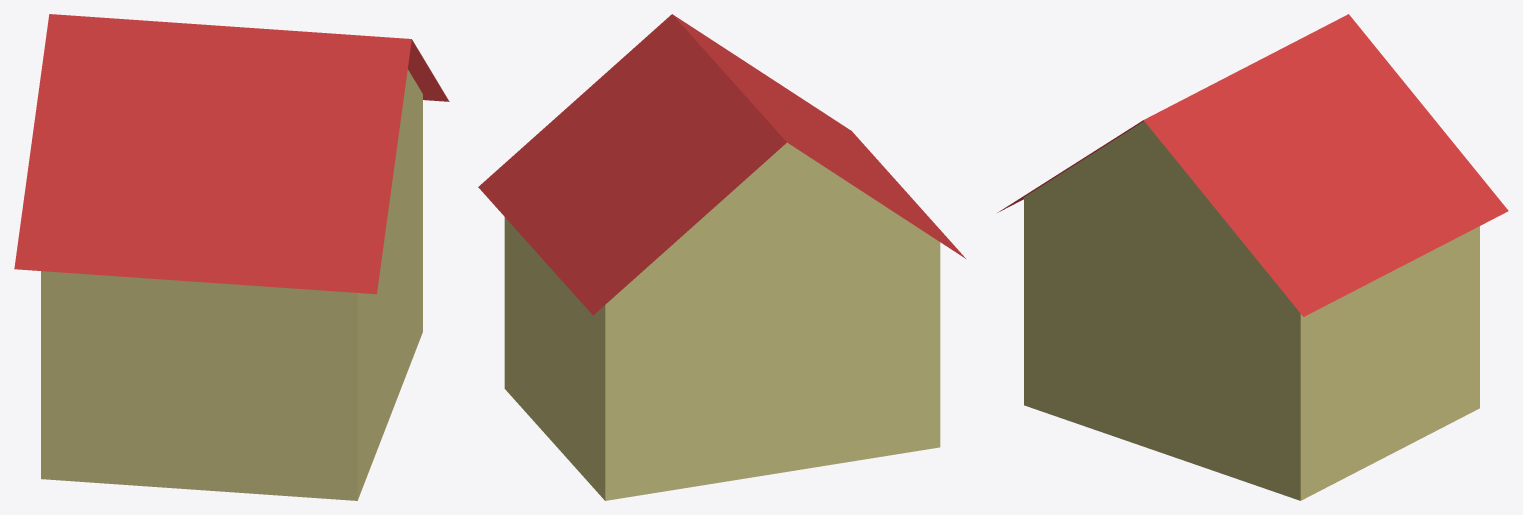
3 views of the same model, side by side, from view 1: azimuth 30°, elevation 25°; view 2: azimuth 150°, elevation 25°; view 3: azimuth 270°, elevation 25° (orthographic). The views are drawn at different scales.
Visible parts, largest first — view 1: group_5, group_3, group_4; view 2: group_5, group_3, group_4; view 3: group_5, group_3, group_4.
Part boxes in pixels (x1=…): group_5: x1=41, y1=69, x2=422, y2=500; group_3: x1=41, y1=15, x2=449, y2=293; group_4: x1=14, y1=14, x2=412, y2=294; group_5: x1=504, y1=142, x2=940, y2=500; group_3: x1=481, y1=14, x2=939, y2=315; group_4: x1=478, y1=15, x2=965, y2=313; group_5: x1=1024, y1=121, x2=1479, y2=500; group_3: x1=997, y1=14, x2=1508, y2=316; group_4: x1=1145, y1=122, x2=1508, y2=316.
Bounding box in the file's own units: 18.34 × 18.72 × 13.58.
